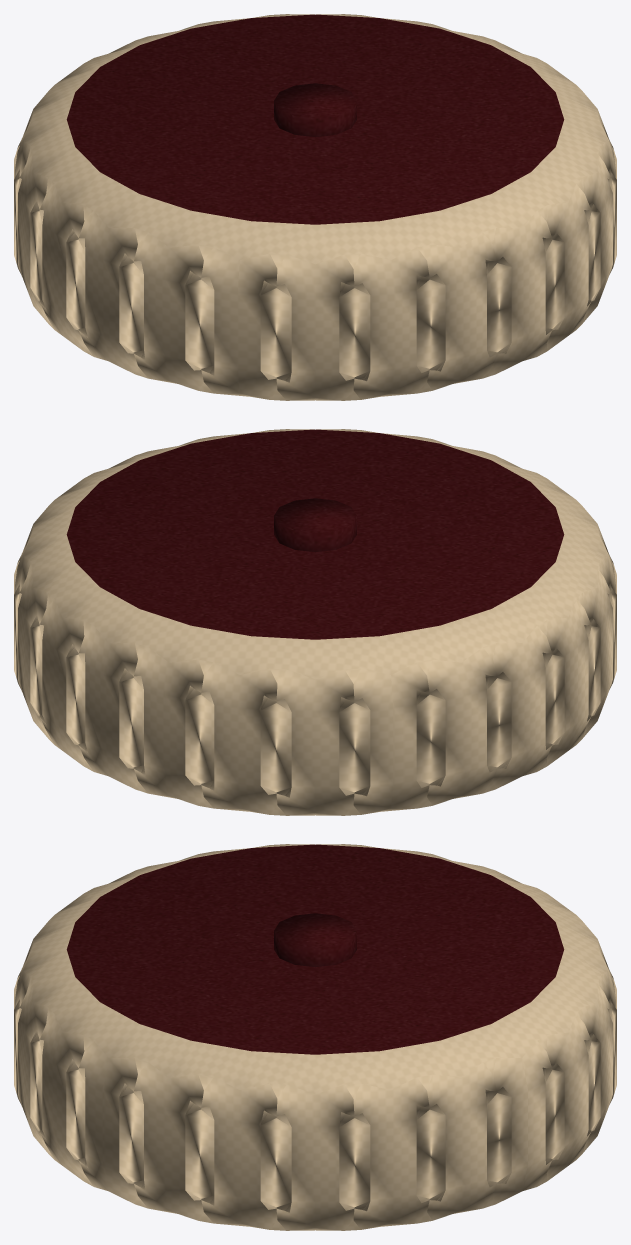
The model's file is modern_cushion_04.glb.
3 views of the same model, one above another, from view 1: azimuth 30°, elevation 25°; view 2: azimuth 150°, elevation 25°; view 3: azimuth 270°, elevation 25° (orthographic).
Parts seen in each view (by area): view 1: modern_cushion_04; view 2: modern_cushion_04; view 3: modern_cushion_04.
Part boxes in pixels (<box>): modern_cushion_04: <box>14,14,616,400</box>; modern_cushion_04: <box>14,429,616,815</box>; modern_cushion_04: <box>14,844,616,1230</box>.
Size of the model in its own units: 0.4354 by 0.155 by 0.4354.
2 materials, 2 textured.
